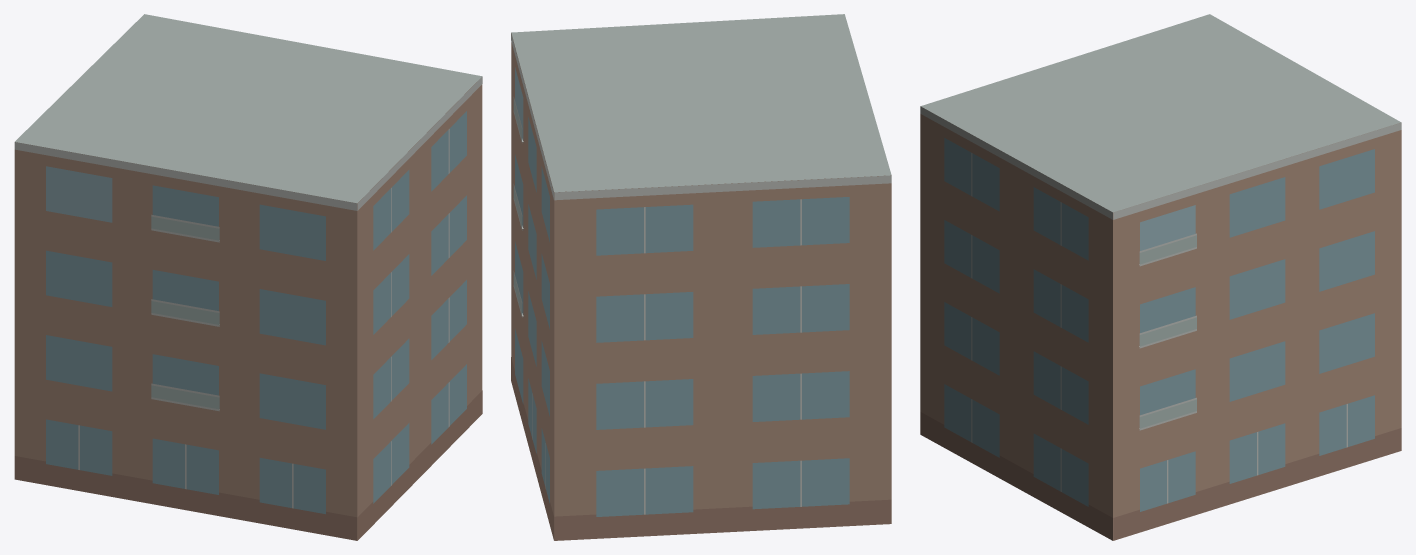
Rendered from survey-upis-32526857.glb.
The picture shows the model from 3 angles, left to right: view 1: azimuth 30°, elevation 25°; view 2: azimuth 150°, elevation 25°; view 3: azimuth 270°, elevation 25°; orthographic projection. The views are drawn at different scales.
Parts seen in each view (by area): view 1: survey-upis-32526857.tmp; view 2: survey-upis-32526857.tmp; view 3: survey-upis-32526857.tmp.
Part boxes in pixels (x1,y1,x2,y2): survey-upis-32526857.tmp: (14,14,482,540); survey-upis-32526857.tmp: (511,14,891,540); survey-upis-32526857.tmp: (920,14,1401,540).
Bounding box in the file's own units: 13.88 × 10.7 × 14.22.
